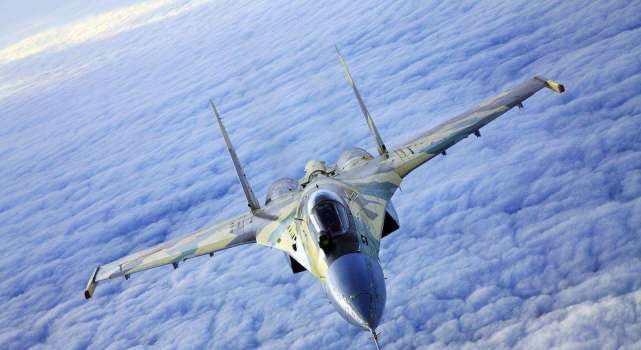airplane: (81, 44, 564, 349)
